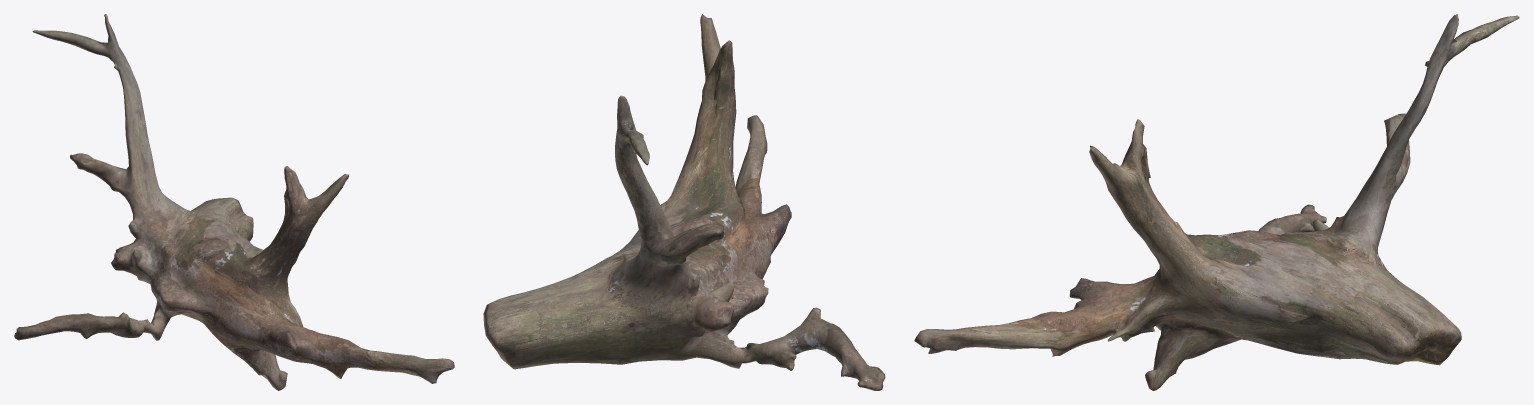
The model's file is SM_TreeStump_09_01.fbx.
3 renders of one model, left to right at view 1: azimuth 30°, elevation 25°; view 2: azimuth 150°, elevation 25°; view 3: azimuth 270°, elevation 25°, orthographic. The views are drawn at different scales.
Parts seen in each view (by area): view 1: sm_TreeStump_09_01_LOD0; view 2: sm_TreeStump_09_01_LOD0; view 3: sm_TreeStump_09_01_LOD0.
Boxes of the visible parts, x1,y1,x2,y2 form: sm_TreeStump_09_01_LOD0: [14, 14, 454, 390]; sm_TreeStump_09_01_LOD0: [483, 14, 885, 390]; sm_TreeStump_09_01_LOD0: [914, 14, 1519, 390].
Size of the model in its own units: 273 by 171 by 173.
